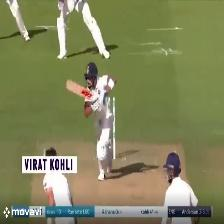batsman: (64, 59, 130, 181)
